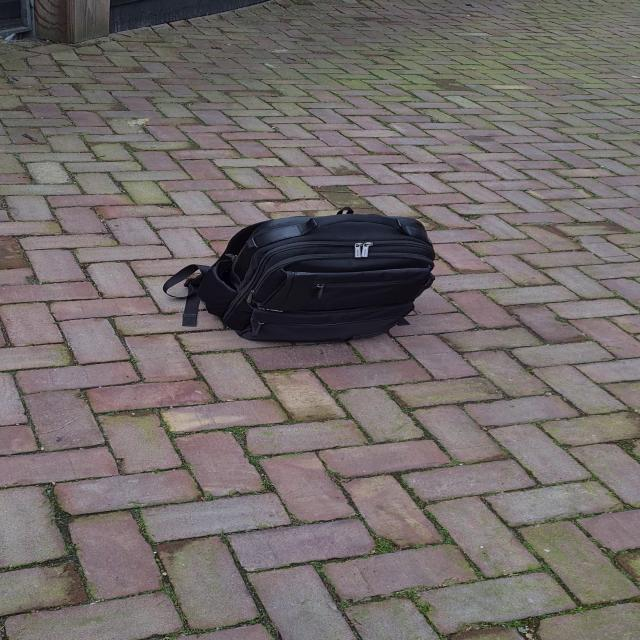backpack: (181, 206, 447, 346)
